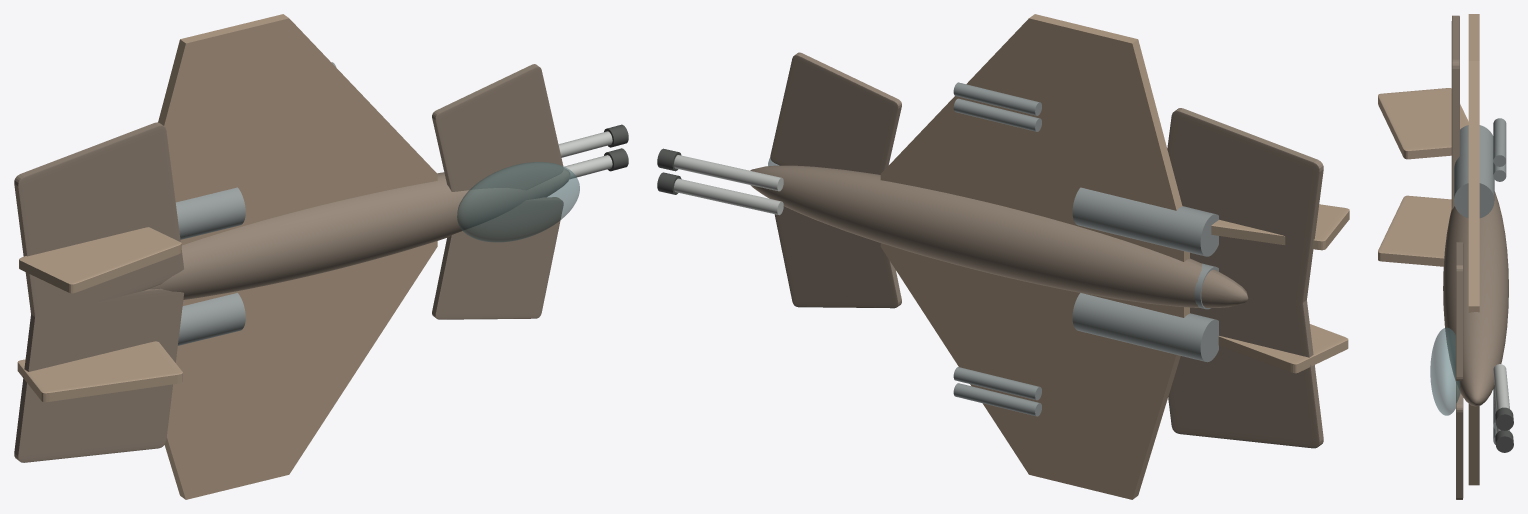
The model's file is d-x04-dominion-aero-lod1.glb.
3 renders of one model, left to right at view 1: azimuth 30°, elevation 25°; view 2: azimuth 150°, elevation 25°; view 3: azimuth 270°, elevation 25°, orthographic. The views are drawn at different scales.
Visible parts, largest first — view 1: combat_main_wing, combat_fuselage, combat_tailplane_1, combat_tailplane_-1, canard_1, canard_-1, combat_canopy, combat_fin_-1, combat_fin_1, combat_engine_2, combat_engine_0, combat_gun_barrel_1; view 2: combat_main_wing, combat_fuselage, combat_tailplane_1, combat_tailplane_-1, canard_1, canard_-1, combat_engine_0, combat_engine_2, combat_fin_-1, combat_fin_1, combat_gun_barrel_0, combat_gun_barrel_1 (+4 smaller); view 3: combat_fuselage, combat_main_wing, combat_fin_1, combat_fin_-1, combat_engine_2, combat_canopy, combat_tailplane_1, canard_1, canard_-1, combat_1_tube_2, combat_gun_barrel_1, combat_gun_muzzle_1 (+2 smaller).
Part boxes in pixels (x1,y1,x2,y2): combat_main_wing: (158, 14, 437, 499); combat_fuselage: (147, 168, 569, 299); combat_tailplane_1: (14, 122, 183, 321); combat_tailplane_-1: (14, 288, 183, 462); canard_1: (432, 64, 563, 191); canard_-1: (432, 197, 563, 319); combat_canopy: (457, 162, 579, 242); combat_fin_-1: (17, 341, 182, 402); combat_fin_1: (19, 227, 181, 293); combat_engine_2: (176, 187, 245, 239); combat_engine_0: (178, 293, 245, 345); combat_gun_barrel_1: (558, 131, 612, 157); combat_main_wing: (880, 14, 1189, 499); combat_fuselage: (750, 165, 1248, 307); combat_tailplane_1: (1167, 108, 1323, 302); combat_tailplane_-1: (1168, 289, 1323, 448); canard_1: (770, 52, 901, 174); canard_-1: (774, 206, 901, 308); combat_engine_0: (1072, 293, 1218, 362); combat_engine_2: (1072, 187, 1218, 256); combat_fin_-1: (1218, 324, 1348, 373); combat_fin_1: (1211, 204, 1349, 250); combat_gun_barrel_0: (674, 178, 783, 215); combat_gun_barrel_1: (674, 155, 783, 191); combat_fuselage: (1443, 191, 1508, 406); combat_main_wing: (1468, 14, 1479, 485); combat_fin_1: (1378, 88, 1468, 159); combat_fin_-1: (1378, 195, 1451, 266); combat_engine_2: (1454, 125, 1494, 218); combat_canopy: (1430, 327, 1460, 415); combat_tailplane_1: (1451, 15, 1459, 209); canard_1: (1456, 242, 1463, 380); canard_-1: (1456, 383, 1463, 499); combat_1_tube_2: (1493, 118, 1506, 166); combat_gun_barrel_1: (1493, 364, 1509, 409); combat_gun_muzzle_1: (1495, 407, 1513, 430).
Size of what is drawn, in the model's own units: 16.87 by 11.6 by 3.37.
